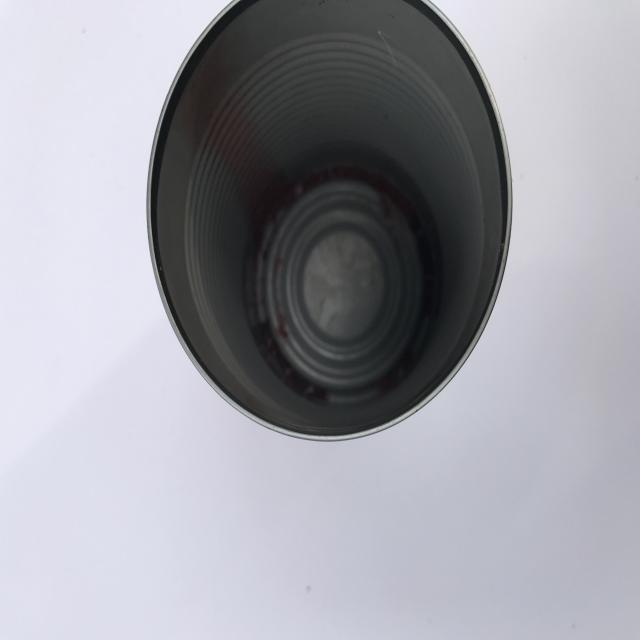metal: (146, 0, 514, 442)
